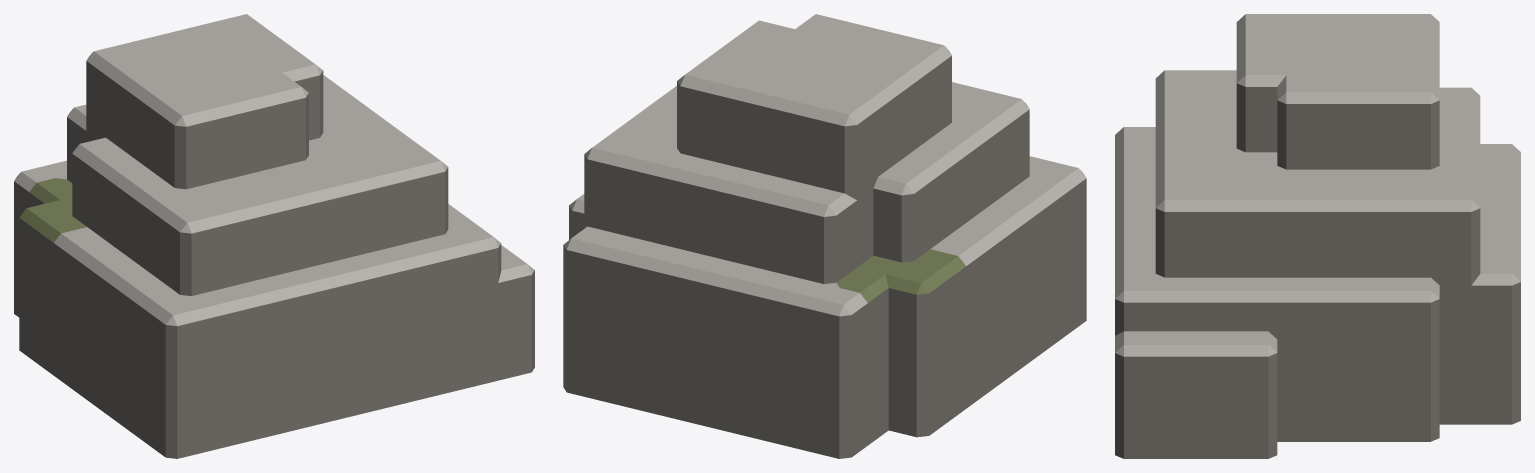
3 renders of one model, left to right at view 1: azimuth 30°, elevation 25°; view 2: azimuth 150°, elevation 25°; view 3: azimuth 270°, elevation 25°, orthographic. The views are drawn at different scales.
Parts seen in each view (by area): view 1: destructible_rock_stage_2_var_2_S, destructible_rock_stage_2_var_2_L, destructible_rock_stage_2_var_2_M; view 2: destructible_rock_stage_2_var_2_S, destructible_rock_stage_2_var_2_L, destructible_rock_stage_2_var_2_M; view 3: destructible_rock_stage_2_var_2_S, destructible_rock_stage_2_var_2_L.
Boxes of the visible parts, x1,y1,x2,y2 form: destructible_rock_stage_2_var_2_S: (14, 61, 534, 458); destructible_rock_stage_2_var_2_L: (14, 14, 534, 326); destructible_rock_stage_2_var_2_M: (19, 178, 86, 242); destructible_rock_stage_2_var_2_S: (563, 56, 1086, 458); destructible_rock_stage_2_var_2_L: (563, 14, 1086, 316); destructible_rock_stage_2_var_2_M: (836, 249, 965, 302); destructible_rock_stage_2_var_2_S: (1115, 83, 1520, 458); destructible_rock_stage_2_var_2_L: (1115, 14, 1520, 356).
Bounding box in the file's own units: 1.65 × 1.2 × 1.5.
